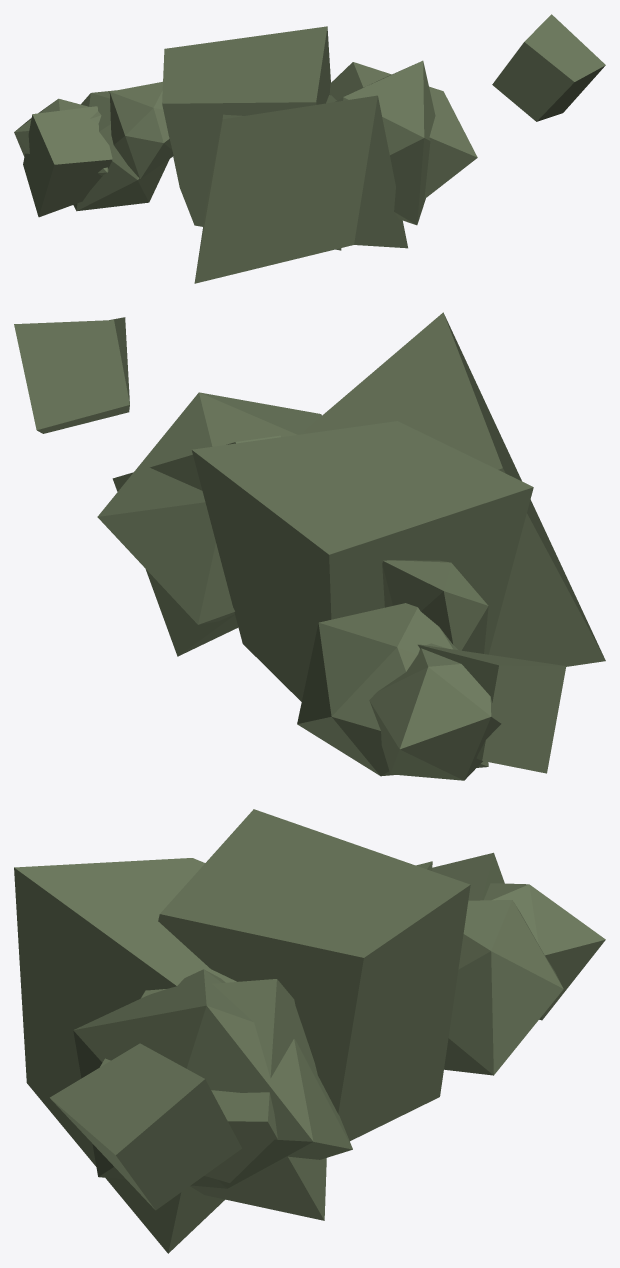
Rendered from rubble_02.glb.
3 renders of one model, top to bottom at view 1: azimuth 30°, elevation 25°; view 2: azimuth 150°, elevation 25°; view 3: azimuth 270°, elevation 25°, orthographic. The views are drawn at different scales.
Parts seen in each view (by area): view 1: rubble_02; view 2: rubble_02; view 3: rubble_02.
Boxes of the visible parts, bbox=[...] form: rubble_02: bbox=[14, 14, 605, 283]; rubble_02: bbox=[14, 312, 605, 780]; rubble_02: bbox=[14, 809, 605, 1253].
Size of the model in its own units: 3.75 by 1.6 by 2.64.
